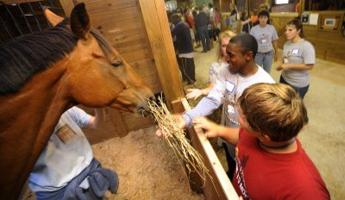person: (156, 34, 278, 184)
